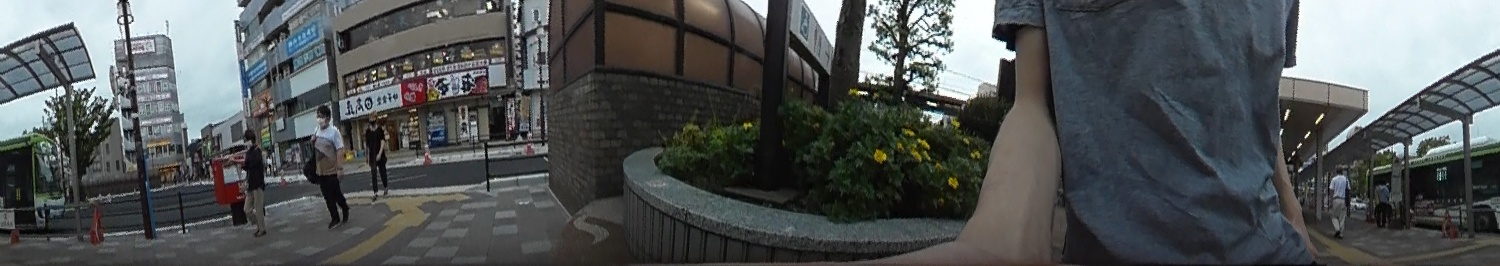difficult_person: (1373, 177, 1389, 228)
person: (310, 104, 350, 228), (235, 126, 270, 237), (364, 108, 391, 199), (1328, 164, 1350, 239)
